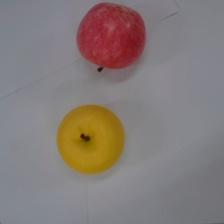red: (74, 0, 148, 75)
yellow: (56, 103, 126, 175)
